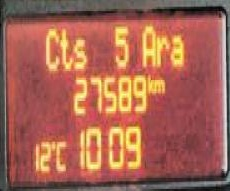0: (83, 122, 102, 171), (106, 122, 123, 168)
1: (76, 124, 83, 171), (32, 137, 38, 171)
2: (71, 73, 86, 115), (38, 137, 51, 173)
5: (112, 20, 128, 69), (102, 73, 116, 113)
7: (87, 73, 101, 113)
8: (117, 73, 129, 111)
9: (123, 122, 140, 168), (131, 71, 147, 113)
X: (139, 20, 154, 69), (43, 24, 58, 71), (58, 22, 72, 71), (72, 35, 86, 68), (154, 31, 168, 64), (169, 31, 183, 64), (55, 137, 66, 171), (153, 75, 163, 93), (147, 68, 152, 93), (51, 135, 55, 148)
